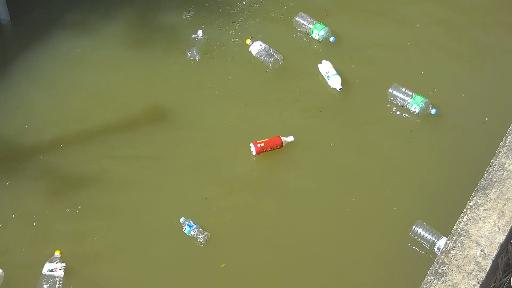plastic: (373, 77, 443, 138), (240, 117, 317, 163), (283, 1, 353, 50), (390, 213, 466, 256), (168, 211, 235, 254), (238, 30, 305, 72), (24, 250, 90, 288), (170, 27, 220, 69), (313, 60, 361, 93), (0, 259, 11, 288)
